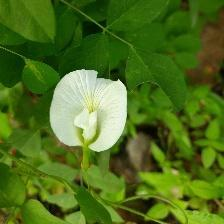shankupushpam: (49, 69, 134, 156)
